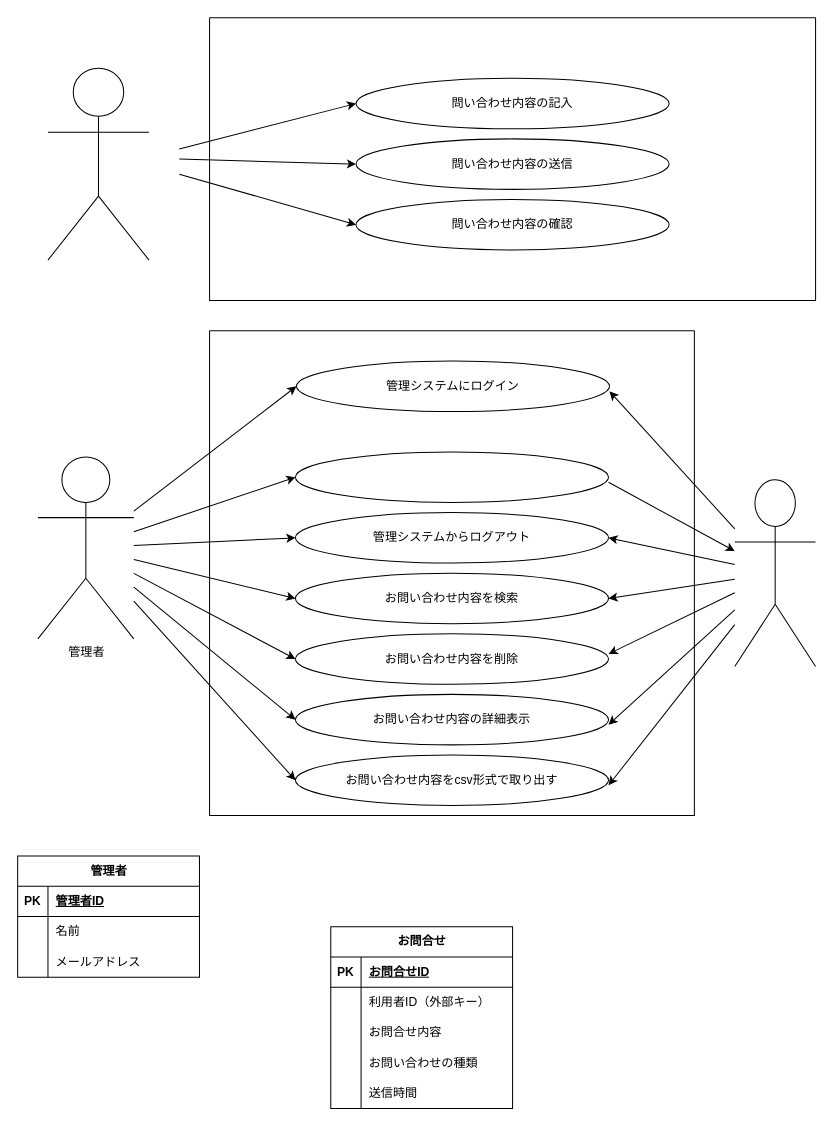
The diagram is 833 pixels wide and 1126 high, and some of its shapes have lost their labels. Each missing label, with the box of its shape:
利用者: (47, 67, 149, 260)
問い合わせ管理システム: (209, 330, 694, 816)
問い合わせ送信システム: (209, 17, 816, 300)
新規ユーザーの作成・登録: (294, 451, 609, 502)
新規管理者: (734, 479, 816, 667)
